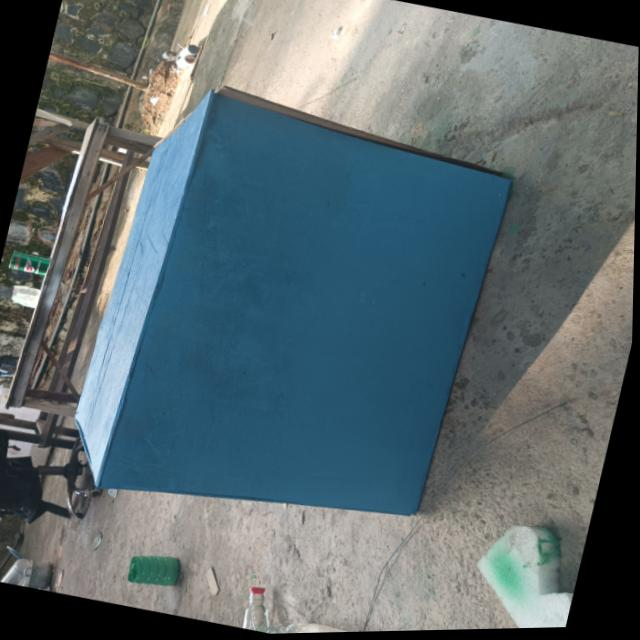blue_box: (62, 61, 519, 558)
